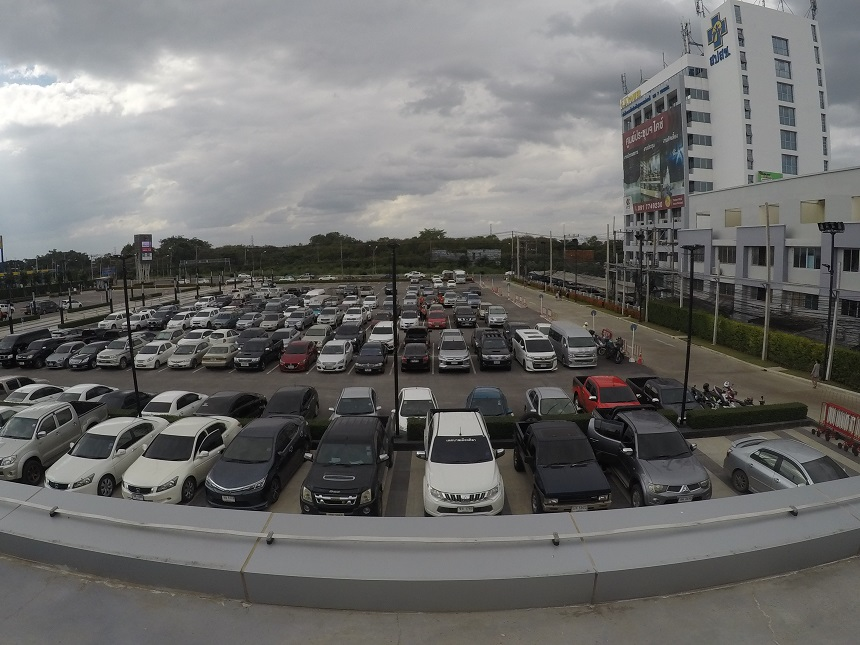busy: (416, 466, 507, 509), (301, 461, 381, 507), (208, 456, 280, 504), (533, 462, 609, 505), (638, 455, 708, 498), (132, 453, 193, 496), (62, 443, 118, 484), (723, 436, 776, 472), (5, 432, 52, 467), (525, 386, 572, 414), (337, 388, 384, 413), (585, 381, 630, 404), (273, 390, 320, 412), (459, 391, 506, 411), (650, 381, 688, 405), (214, 391, 255, 410), (158, 391, 196, 411), (436, 351, 472, 372), (401, 388, 435, 410), (521, 353, 560, 372), (111, 386, 144, 408), (275, 350, 308, 372), (315, 351, 346, 373), (165, 350, 196, 370), (233, 350, 264, 370), (481, 350, 509, 372), (567, 350, 599, 367), (354, 356, 384, 374), (97, 352, 125, 369), (202, 353, 228, 370), (400, 357, 429, 372), (27, 383, 53, 399), (71, 384, 100, 398), (18, 352, 41, 369), (135, 353, 159, 368), (71, 355, 91, 368), (46, 355, 66, 367), (1, 377, 23, 387), (1, 347, 11, 369), (1, 408, 11, 420)
